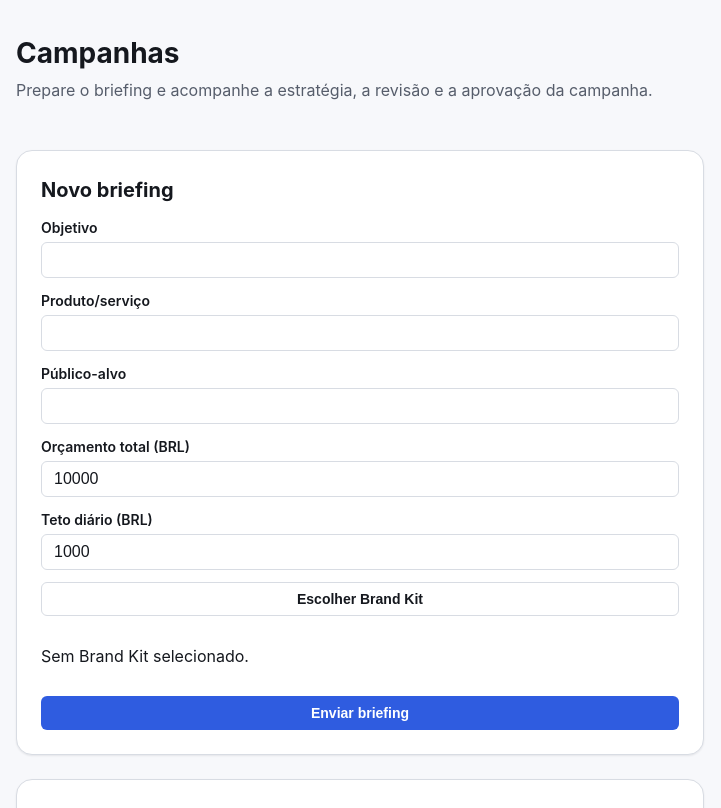
Test case: CampaignsPage › mostra estado vazio e cria uma campanha via briefing
The image size is (721, 808).
Type "Gerar leads qualificados" into the field labelled "Objetivo". click: (360, 260)
box: [41,242,679,278]
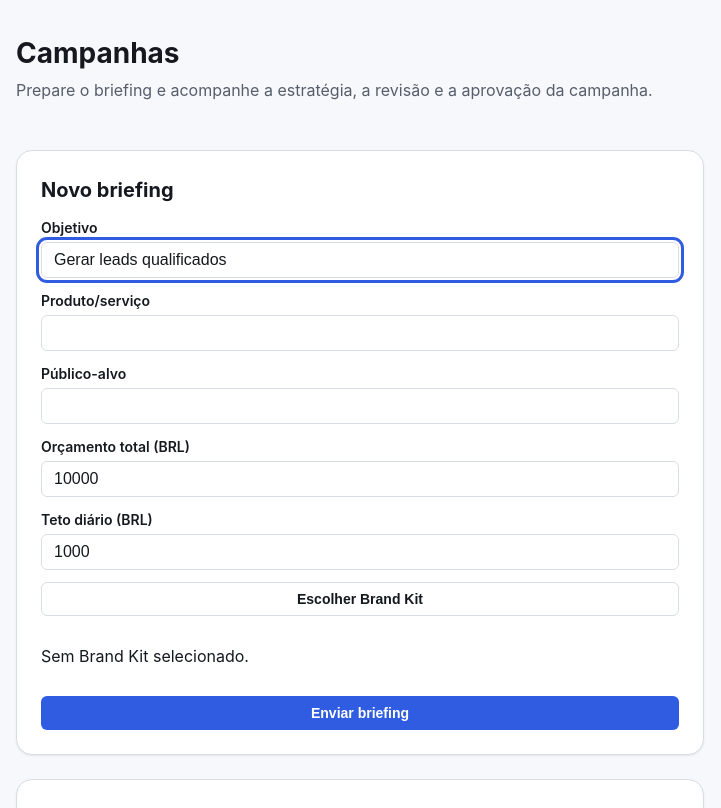
Click the button "Enviar briefing". click: (360, 713)
box: [41,696,679,730]
(page scrolled)
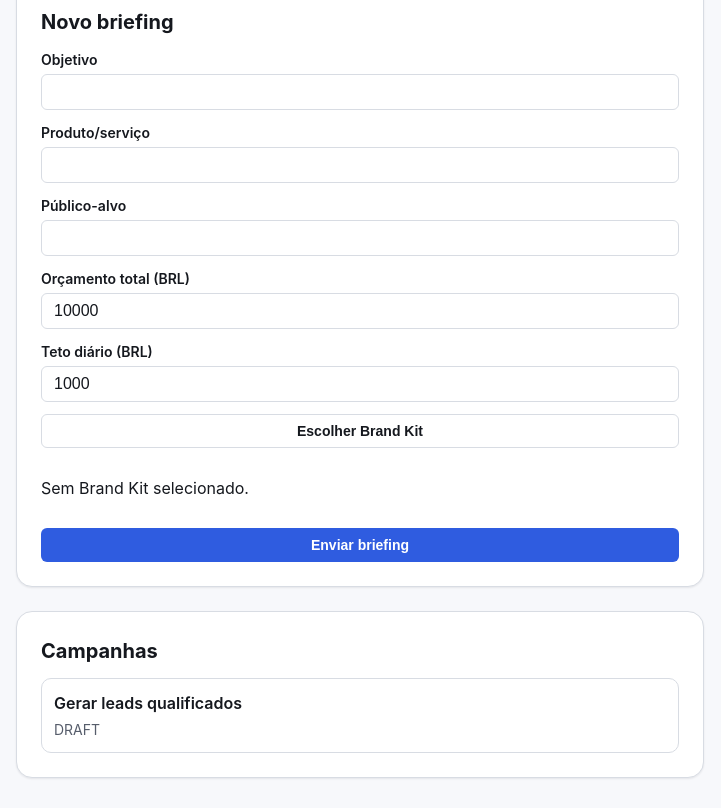
Expected: the text "Gerar leads qualificados" is shown, [54,693,242,713]
